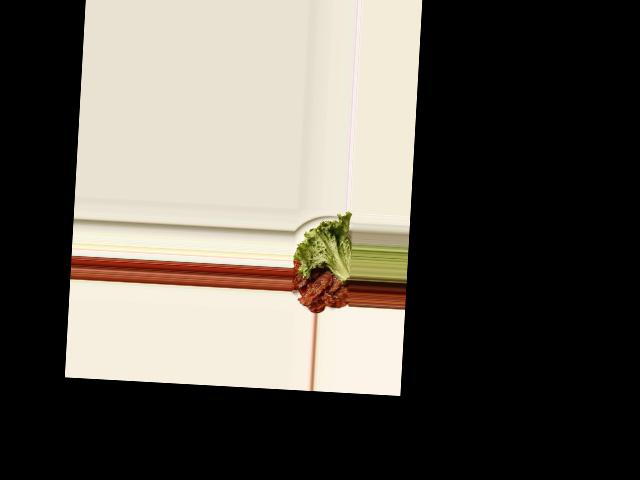lettuce: (294, 212, 354, 280)
